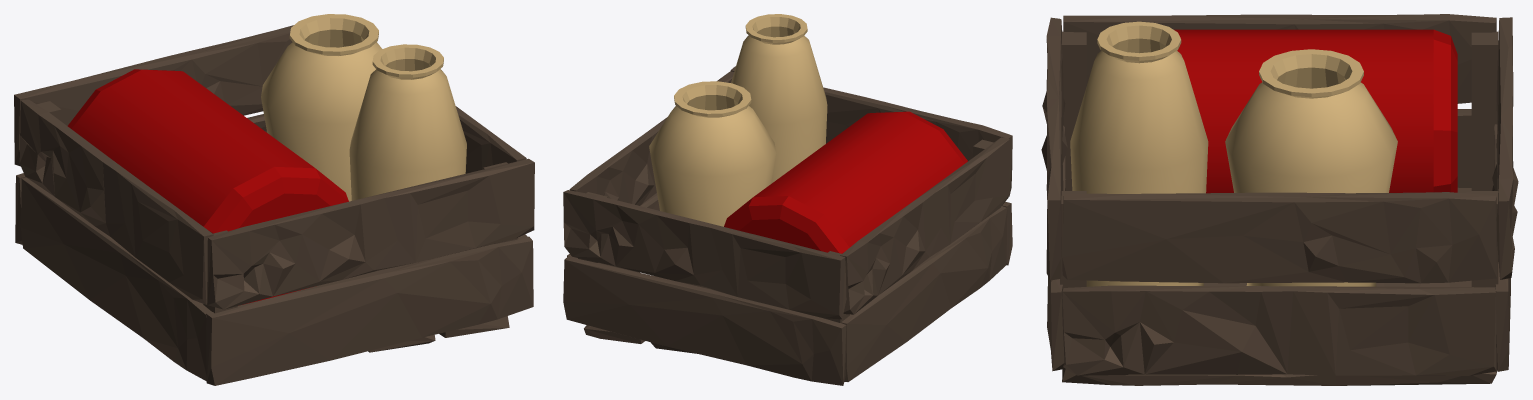
Rendered from SM_crate_filled_01.fbx.
3 renders of one model, left to right at view 1: azimuth 30°, elevation 25°; view 2: azimuth 150°, elevation 25°; view 3: azimuth 270°, elevation 25°, orthographic. The views are drawn at different scales.
Visible parts, largest first — view 1: crate_filled_01; view 2: crate_filled_01; view 3: crate_filled_01.
Part boxes in pixels (left/top/right/bottom): crate_filled_01: left=14, top=14, right=534, bottom=385; crate_filled_01: left=563, top=14, right=1012, bottom=385; crate_filled_01: left=1041, top=14, right=1518, bottom=385.
Size of the model in its own units: 151 by 113 by 160.
